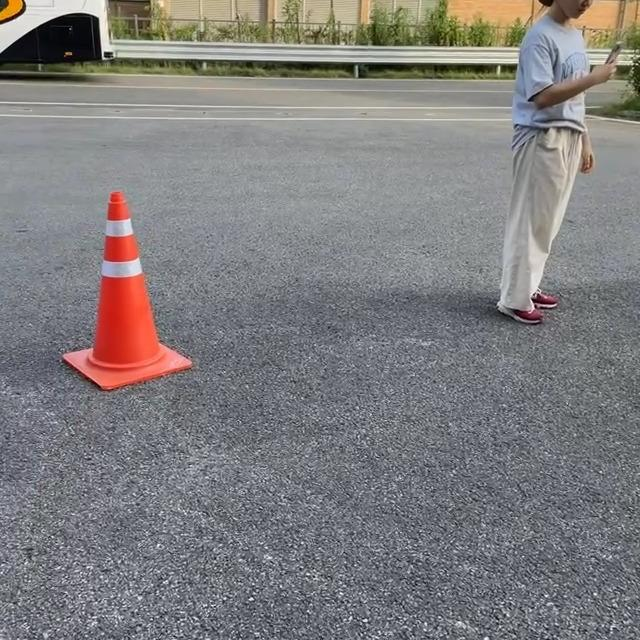fallen_object: (59, 183, 228, 389)
